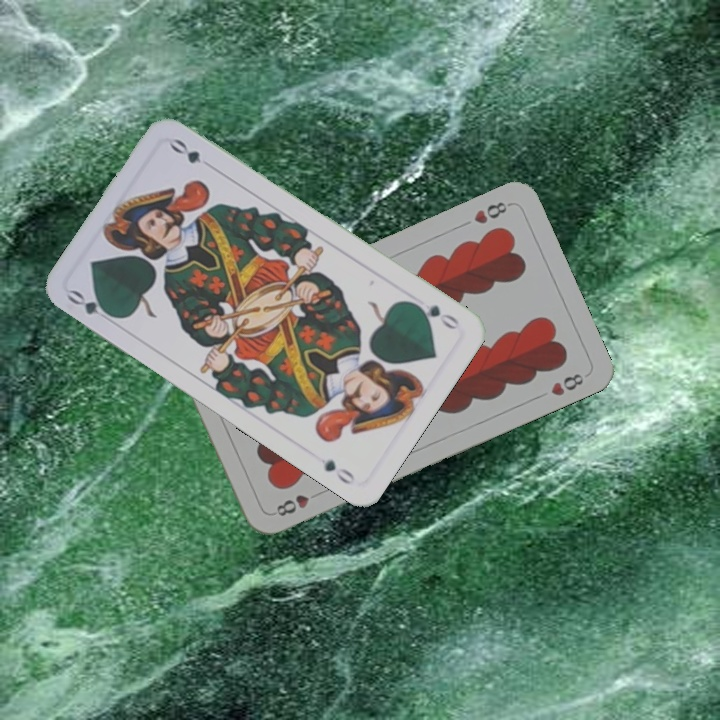GO: (63, 285, 120, 321), (408, 298, 462, 332)
H8: (269, 487, 324, 519), (469, 197, 514, 227)
